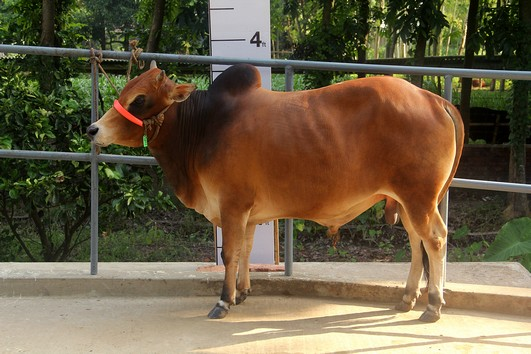cow: (80, 47, 462, 324)
